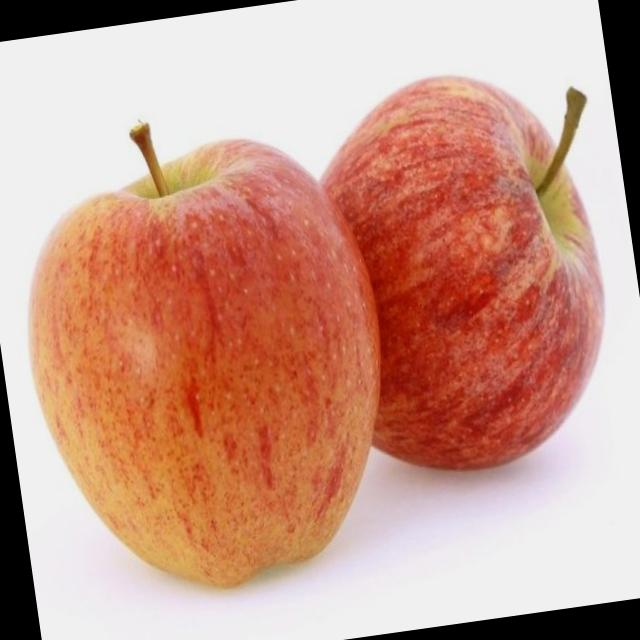apple: (12, 126, 419, 636), (290, 49, 632, 496)
